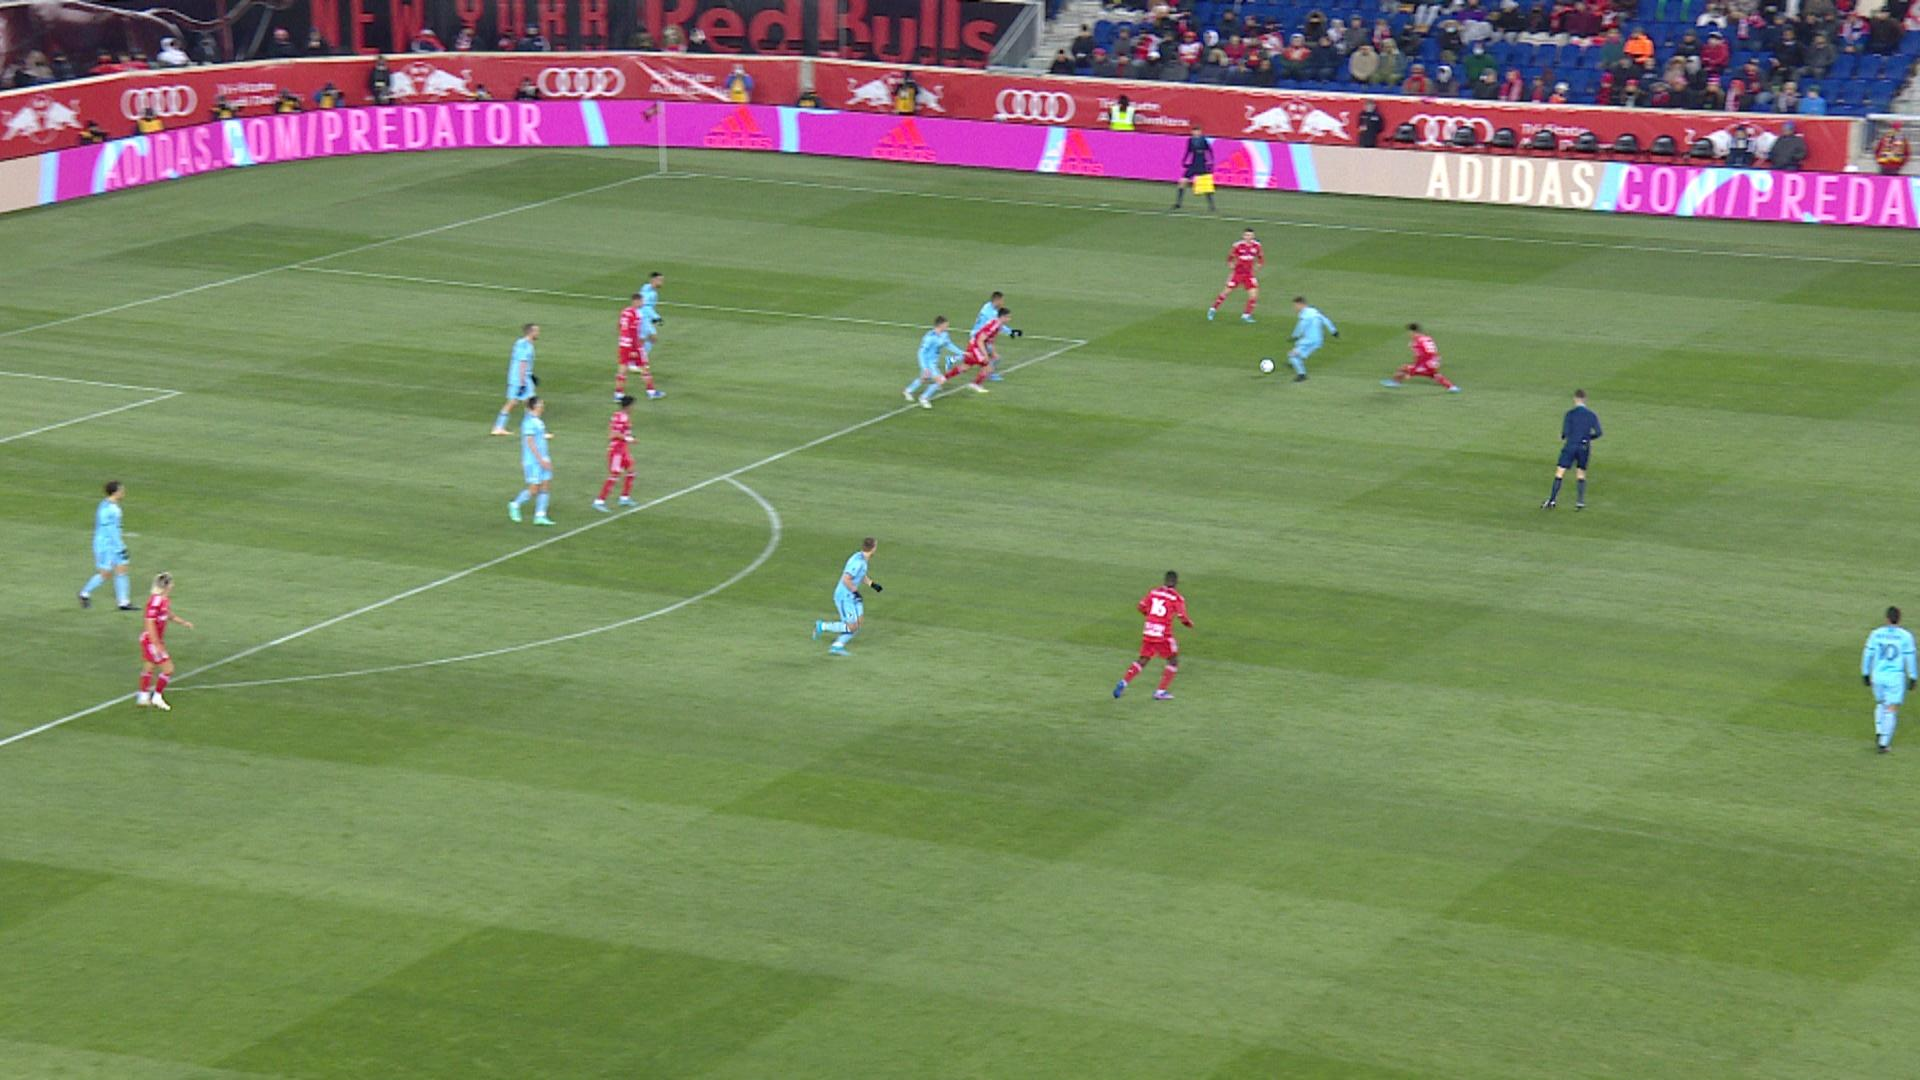football: (1259, 357, 1275, 375)
